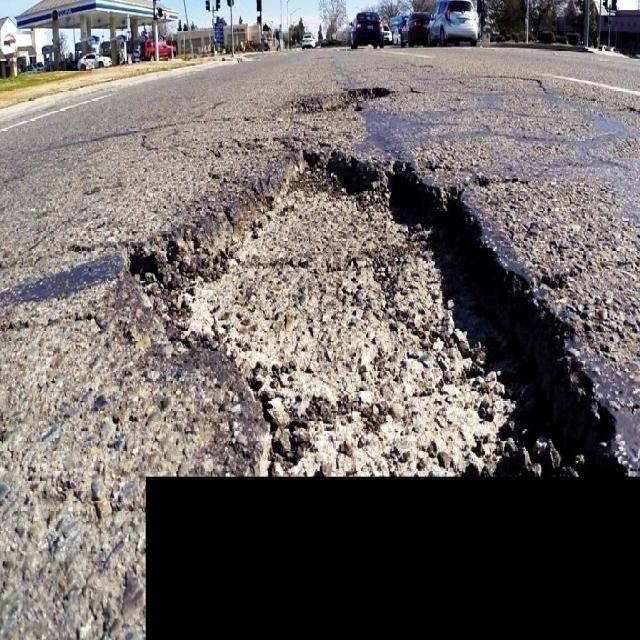road-pothole: (119, 137, 629, 480)
